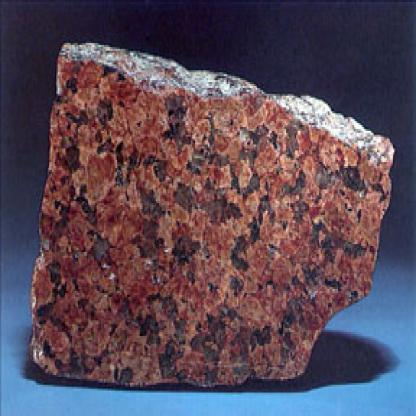Igneous_Granite: (20, 20, 392, 388)
